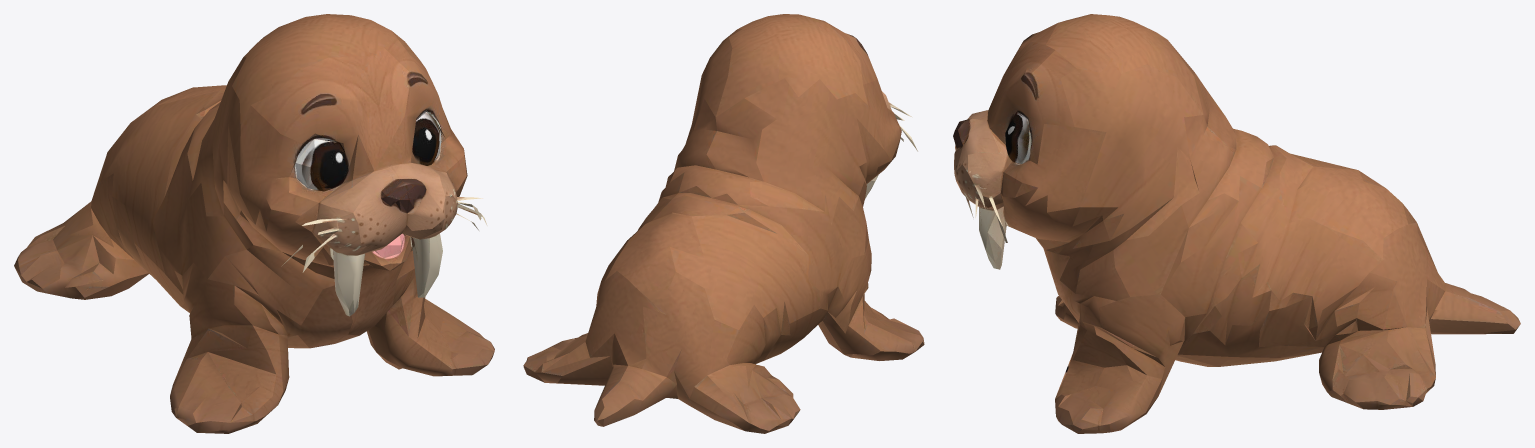
The model's file is toy-walrus.prefab.glb.
The picture shows the model from 3 angles, left to right: view 1: azimuth 30°, elevation 25°; view 2: azimuth 150°, elevation 25°; view 3: azimuth 270°, elevation 25°; orthographic projection. The views are drawn at different scales.
Visible parts, largest first — view 1: Prize_Batch0; view 2: Prize_Batch0; view 3: Prize_Batch0.
Part boxes in pixels (box(x1,y1,x2,y2)): Prize_Batch0: box(14, 14, 494, 433); Prize_Batch0: box(523, 14, 924, 433); Prize_Batch0: box(953, 14, 1520, 433).
Size of the model in its own units: 0.0192 by 0.0213 by 0.032.
1 material, 1 textured.
